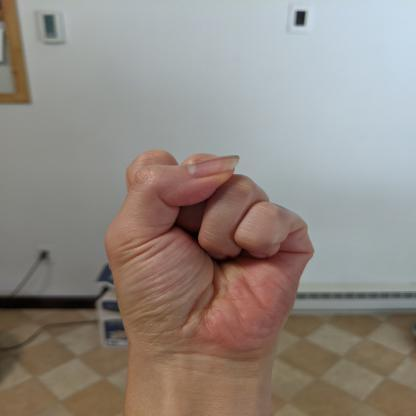S: (98, 146, 320, 367)
